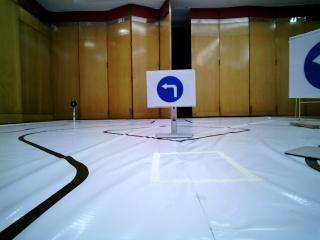left: (149, 72, 191, 107)
